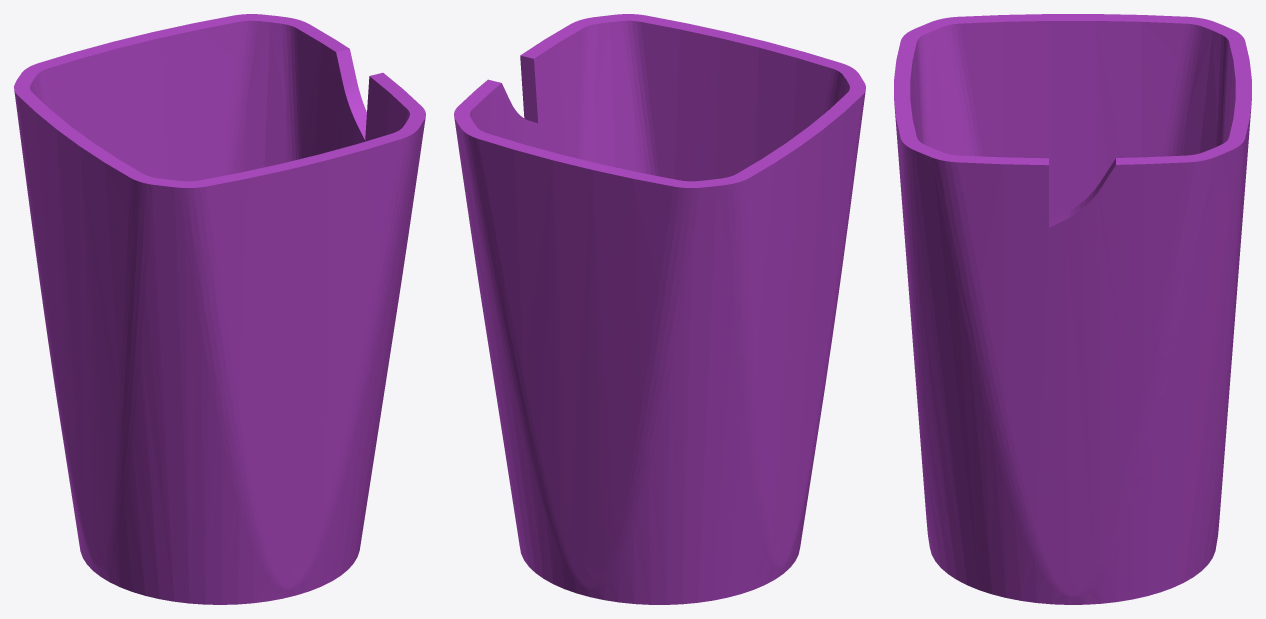
File: cup_pink.dae
3 views of the same model, side by side, from view 1: azimuth 30°, elevation 25°; view 2: azimuth 150°, elevation 25°; view 3: azimuth 270°, elevation 25° (orthographic). The views are drawn at different scales.
Parts seen in each view (by area): view 1: Mesh; view 2: Mesh; view 3: Mesh.
Boxes of the visible parts, x1,y1,x2,y2 form: Mesh: [14, 14, 425, 604]; Mesh: [454, 14, 865, 604]; Mesh: [894, 14, 1251, 604].
Bounding box in the file's own units: 12.55 × 17.6 × 12.55.
